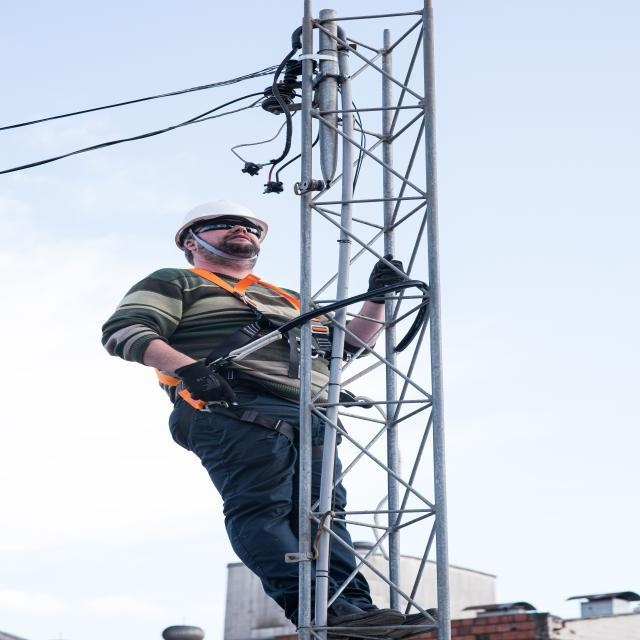Arnes_seguridad: (152, 263, 353, 461)
